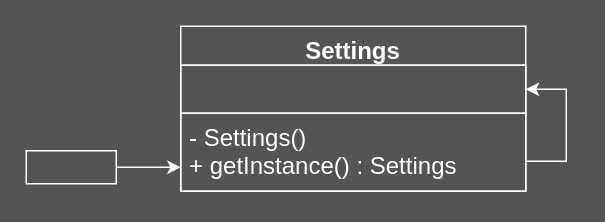
The diagram is 605 pixels wide and 222 high, and some of its shapes have lost their labels. The shapes that lost their labels are listed below. From the top down, each one's centre as x and y in pixels, then its label:
point 352,88: - settingsInstance : Settings
point 70,166: Client
